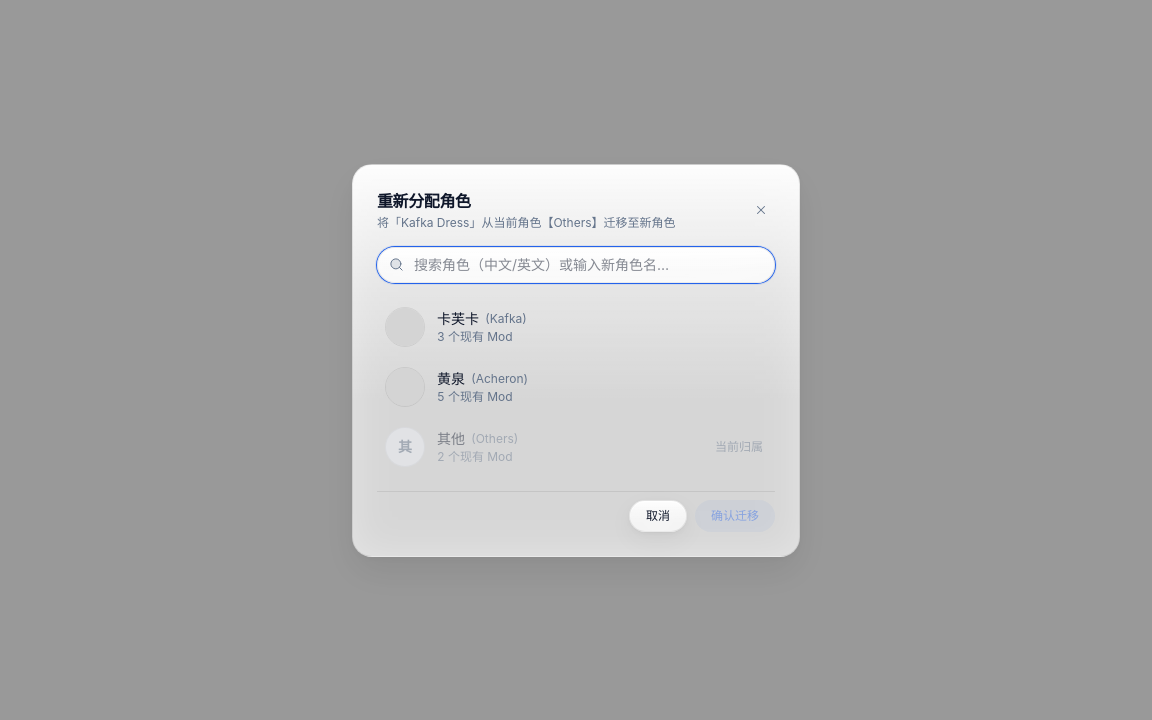
Test case: ReassignCharacterModal › 当输入不存在的角色名时显示新建提示
Step 1. Type "Castorice" into the field with placeholder "搜索角色（中文/英文）或输入新角色名…" → (576, 264), box x1=377 y1=246 x2=775 y2=282
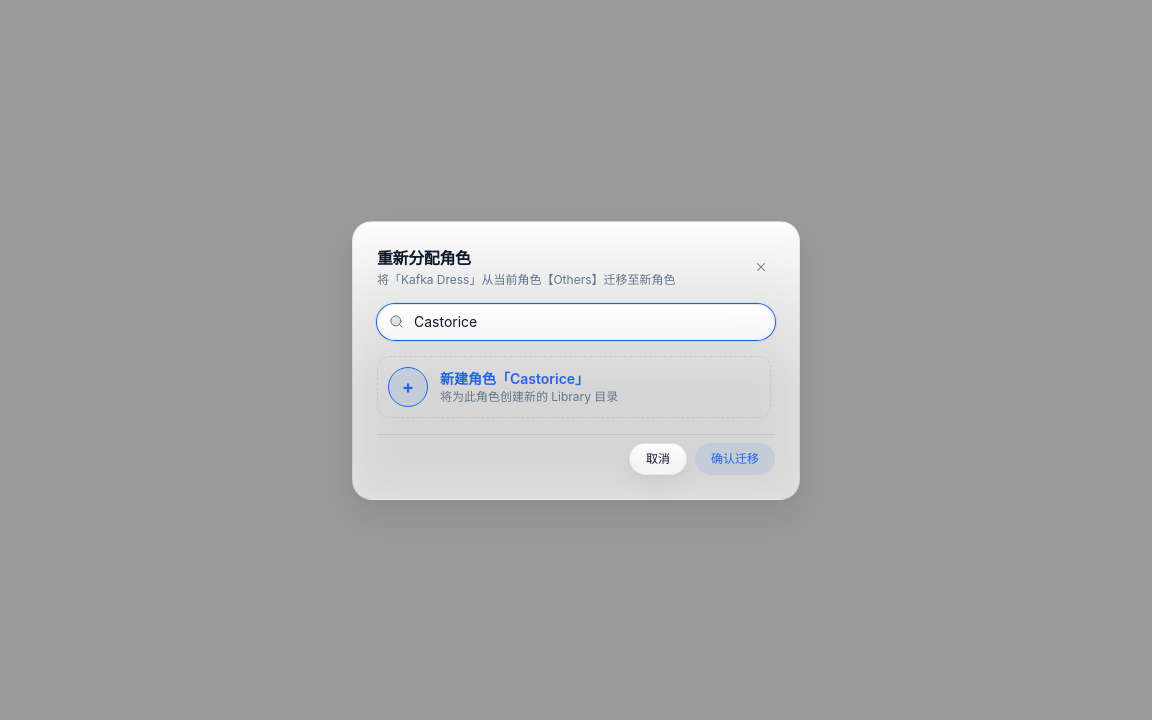
Expected: the text "新建角色「Castorice」" is shown, x1=440 y1=370 x2=589 y2=386
